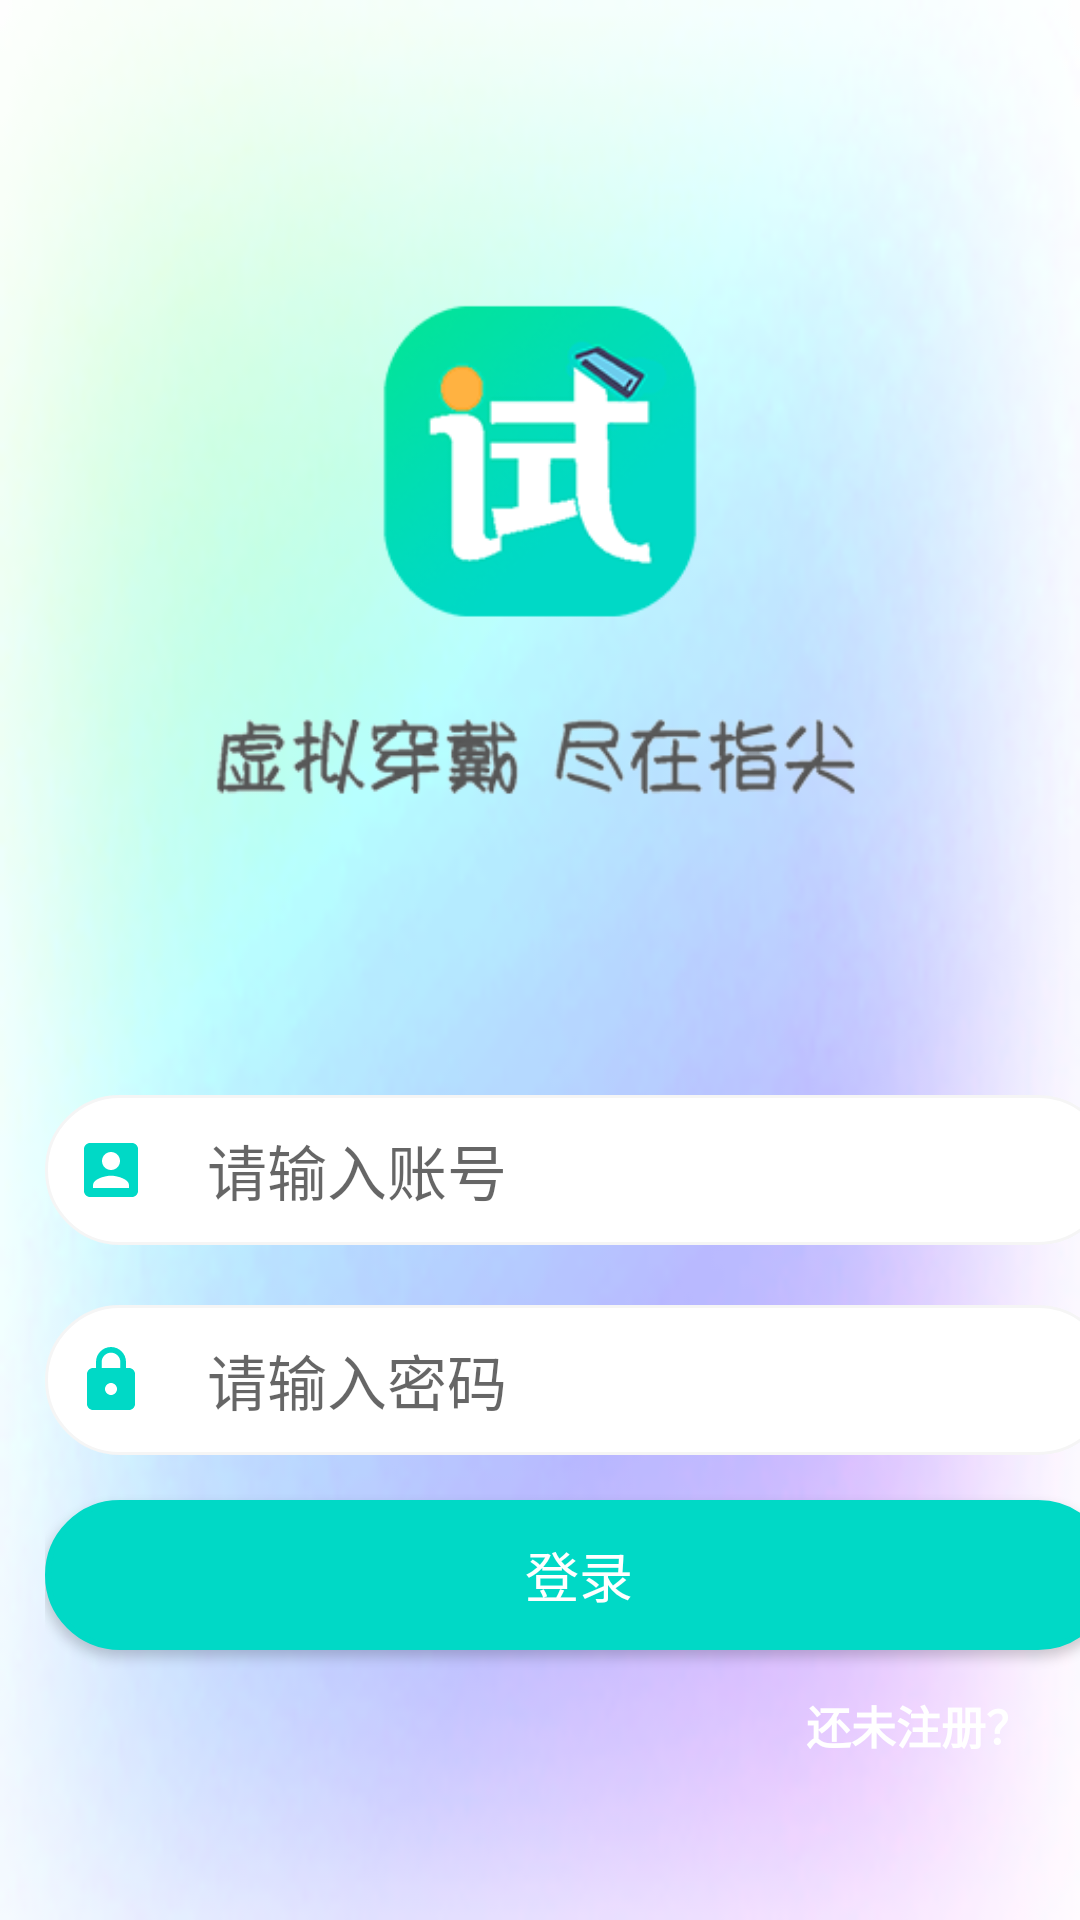

Where icons sit on this 1080x1920 app screen, as (x1, y1, x2, y2):
account box: (84, 1143, 138, 1197)
